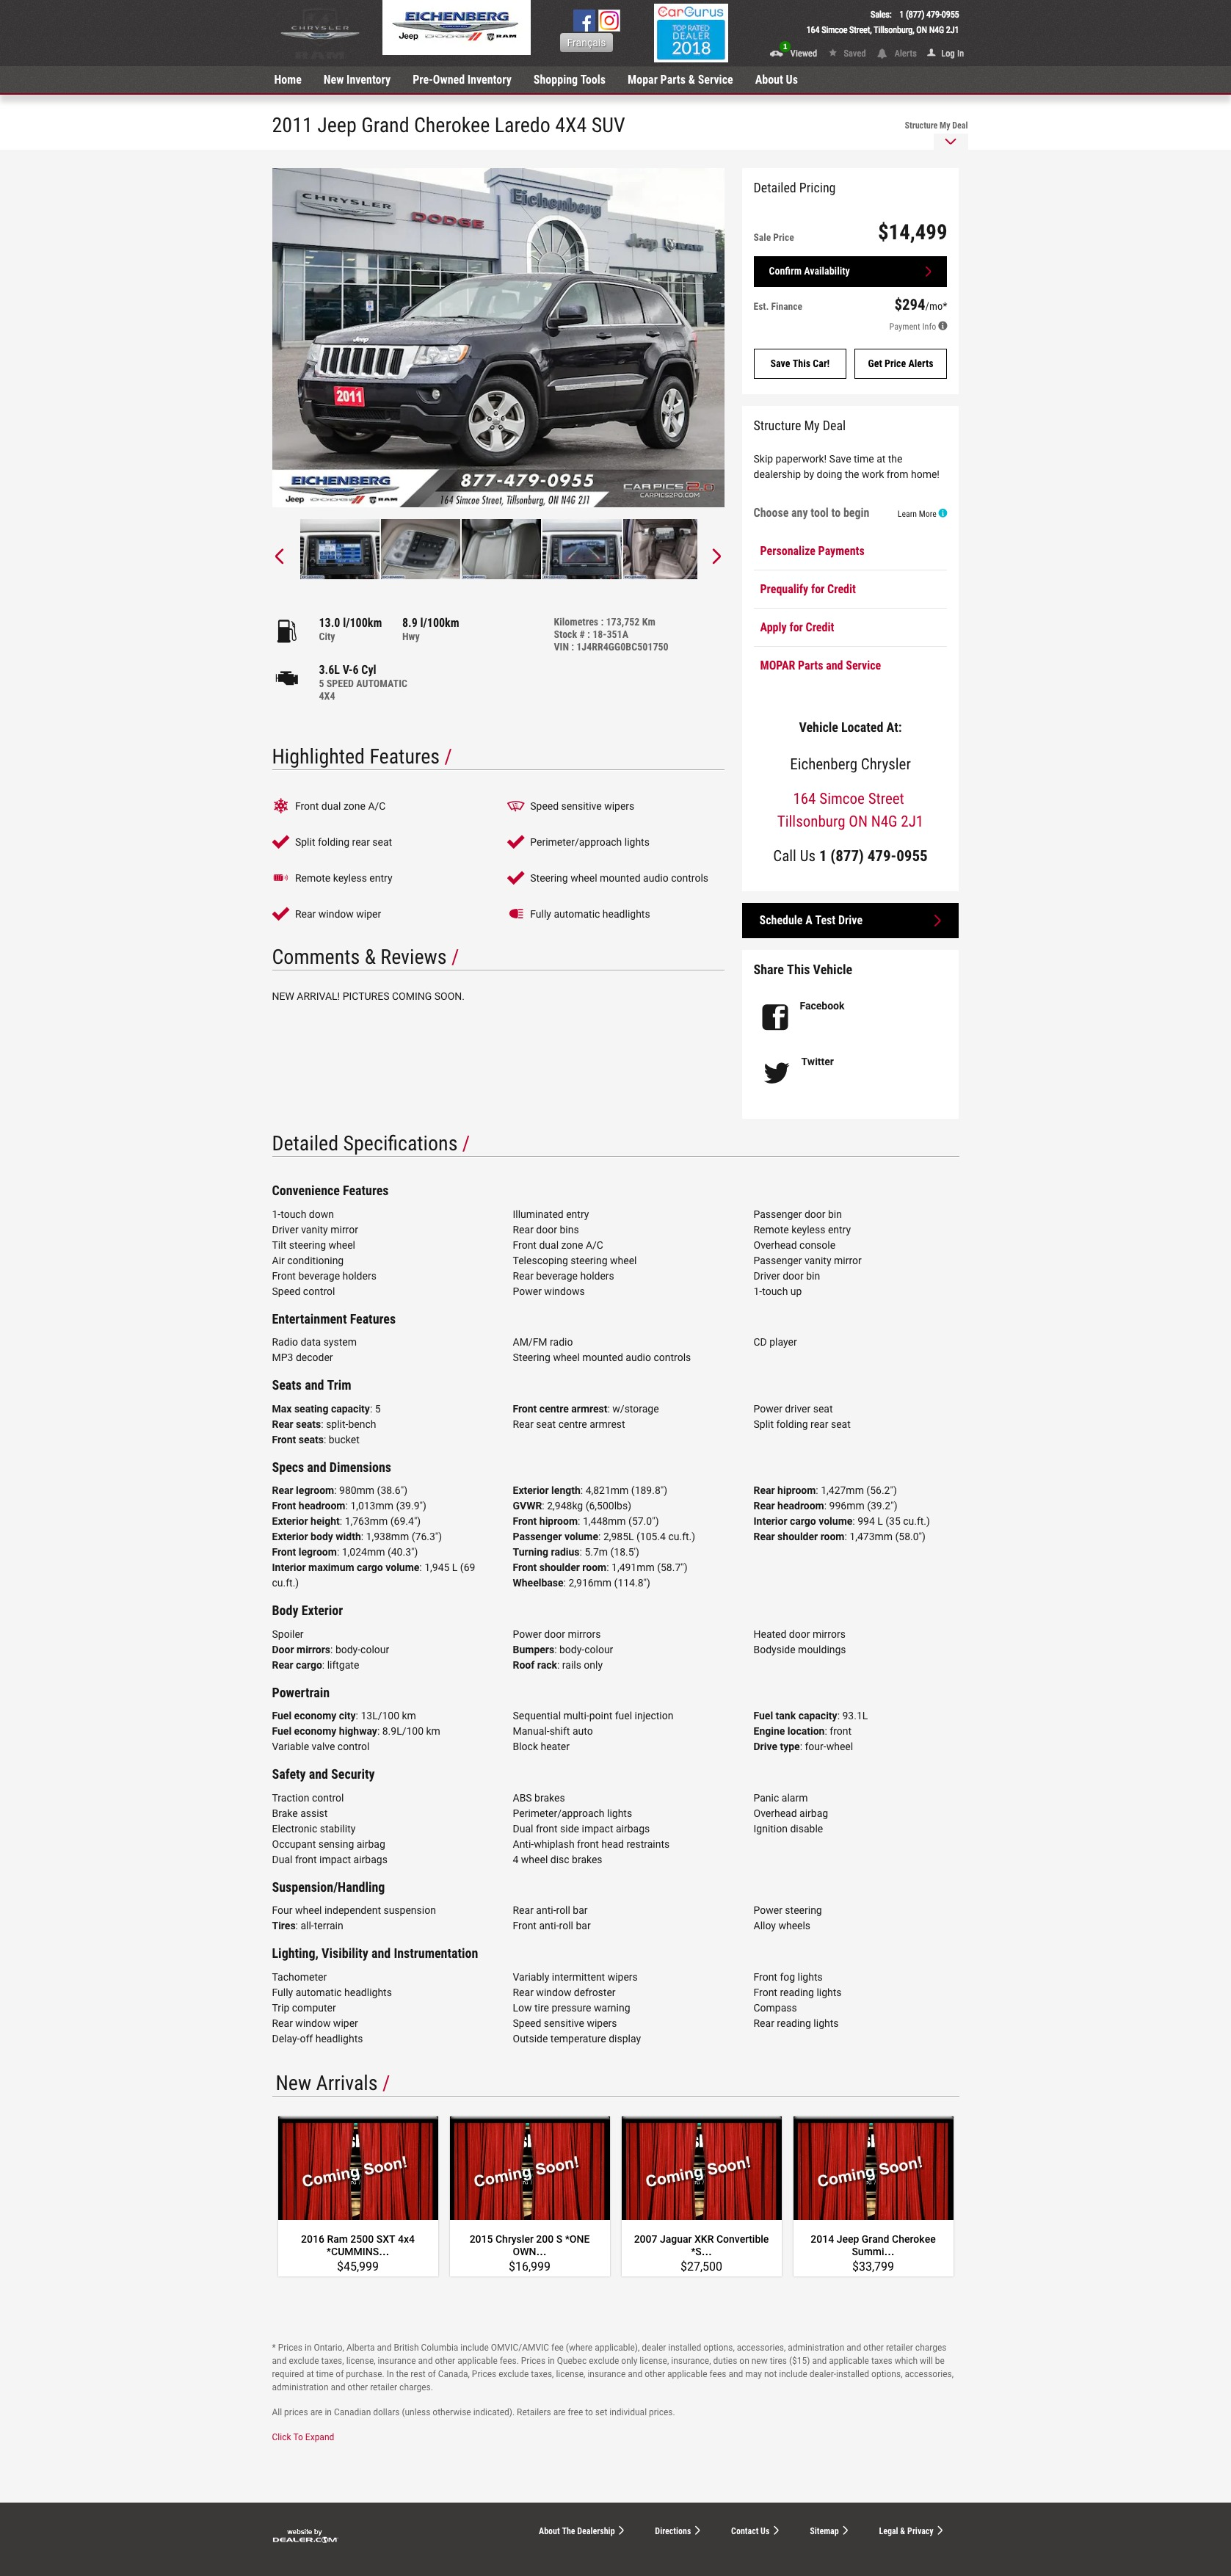car: (713, 549, 722, 565)
